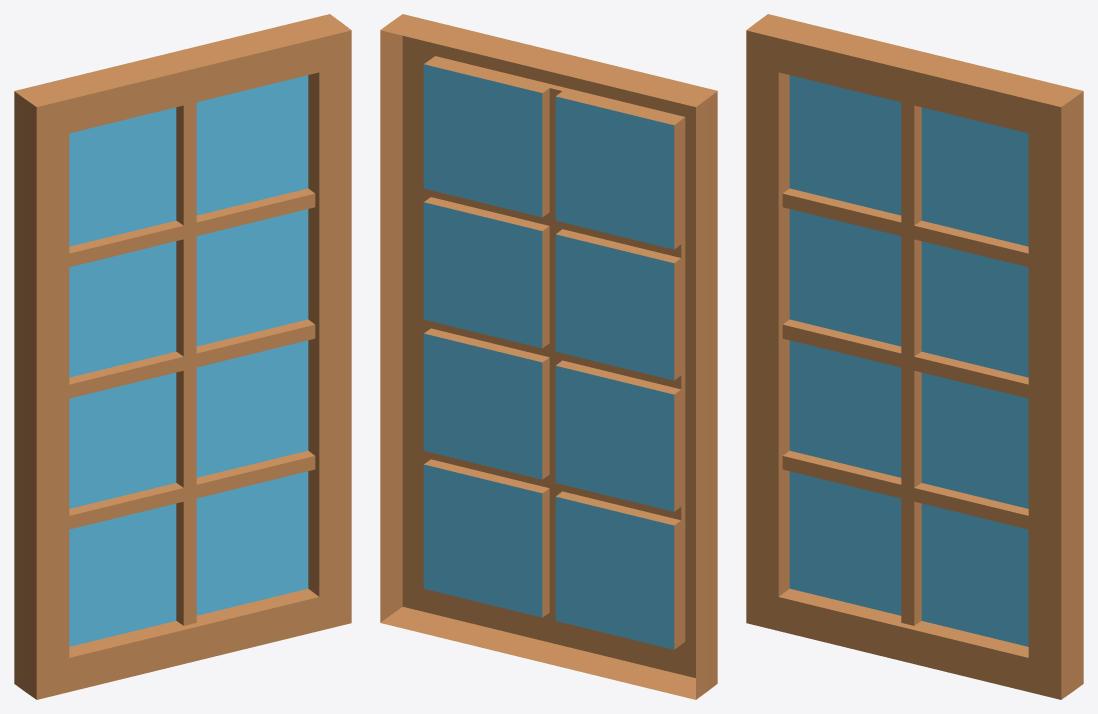
File: Window8Simple.fbx
3 renders of one model, left to right at view 1: azimuth 30°, elevation 25°; view 2: azimuth 150°, elevation 25°; view 3: azimuth 330°, elevation 25°, orthographic.
Parts seen in each view (by area): view 1: Window8Simple; view 2: Window8Simple; view 3: Window8Simple.
Boxes of the visible parts, x1,y1,x2,y2 form: Window8Simple: (14,14,351,699); Window8Simple: (380,14,717,699); Window8Simple: (746,14,1083,699).
Size of the model in its own units: 1.26 by 0.1539 by 2.26.
